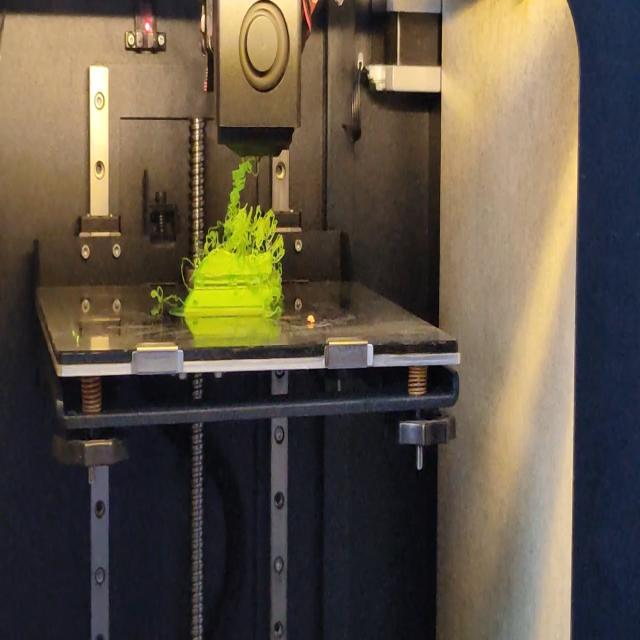spaghetti: (201, 156, 284, 254), (151, 285, 183, 305), (182, 256, 194, 289), (268, 305, 286, 320)
